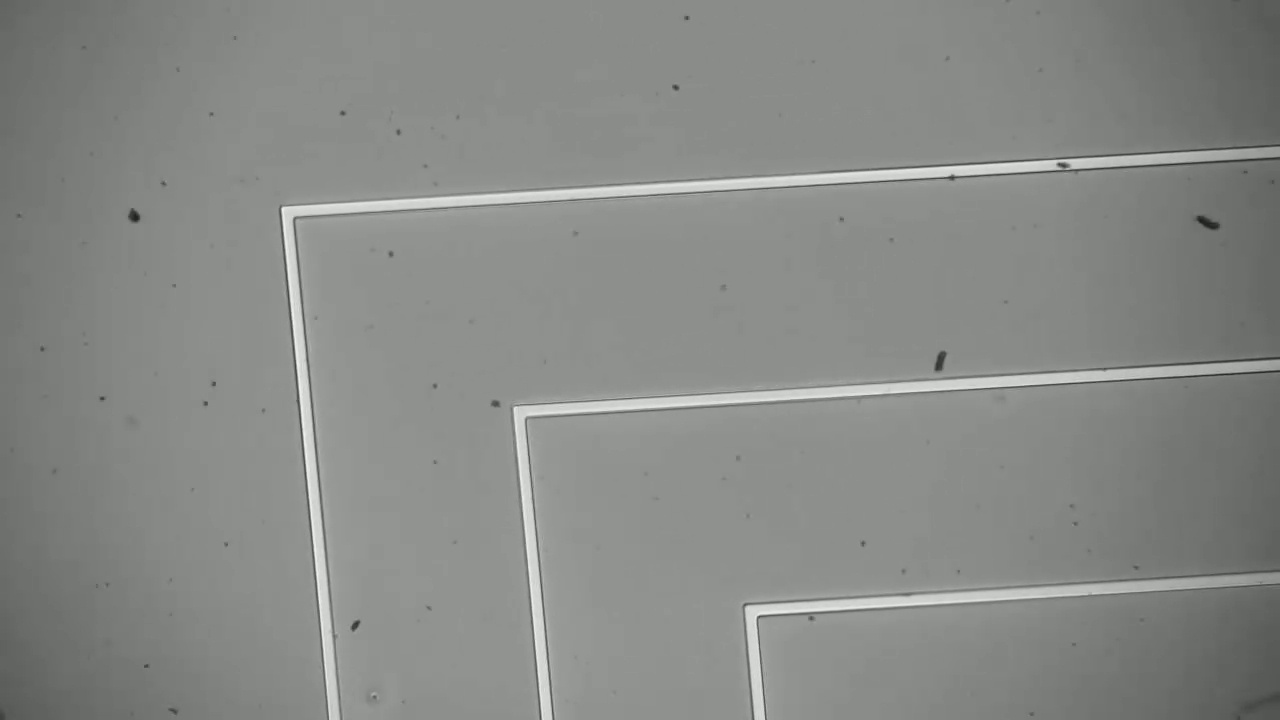stains_enbedded: (1050, 151, 1076, 180)
